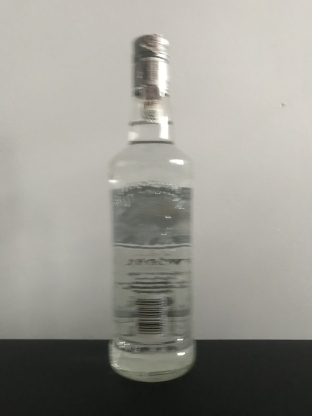nakretka: (129, 32, 172, 99)
